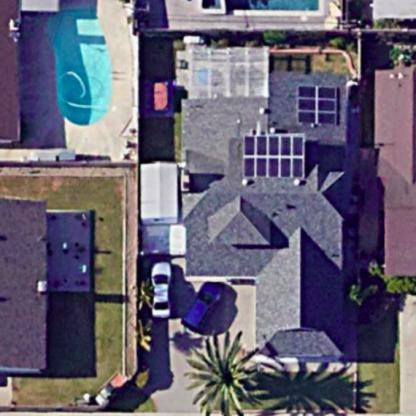car: (136, 255, 172, 322), (186, 276, 227, 331)
solar_panel: (236, 126, 312, 184), (298, 77, 342, 133)
swimming_pool: (39, 1, 124, 132), (195, 1, 339, 20)
